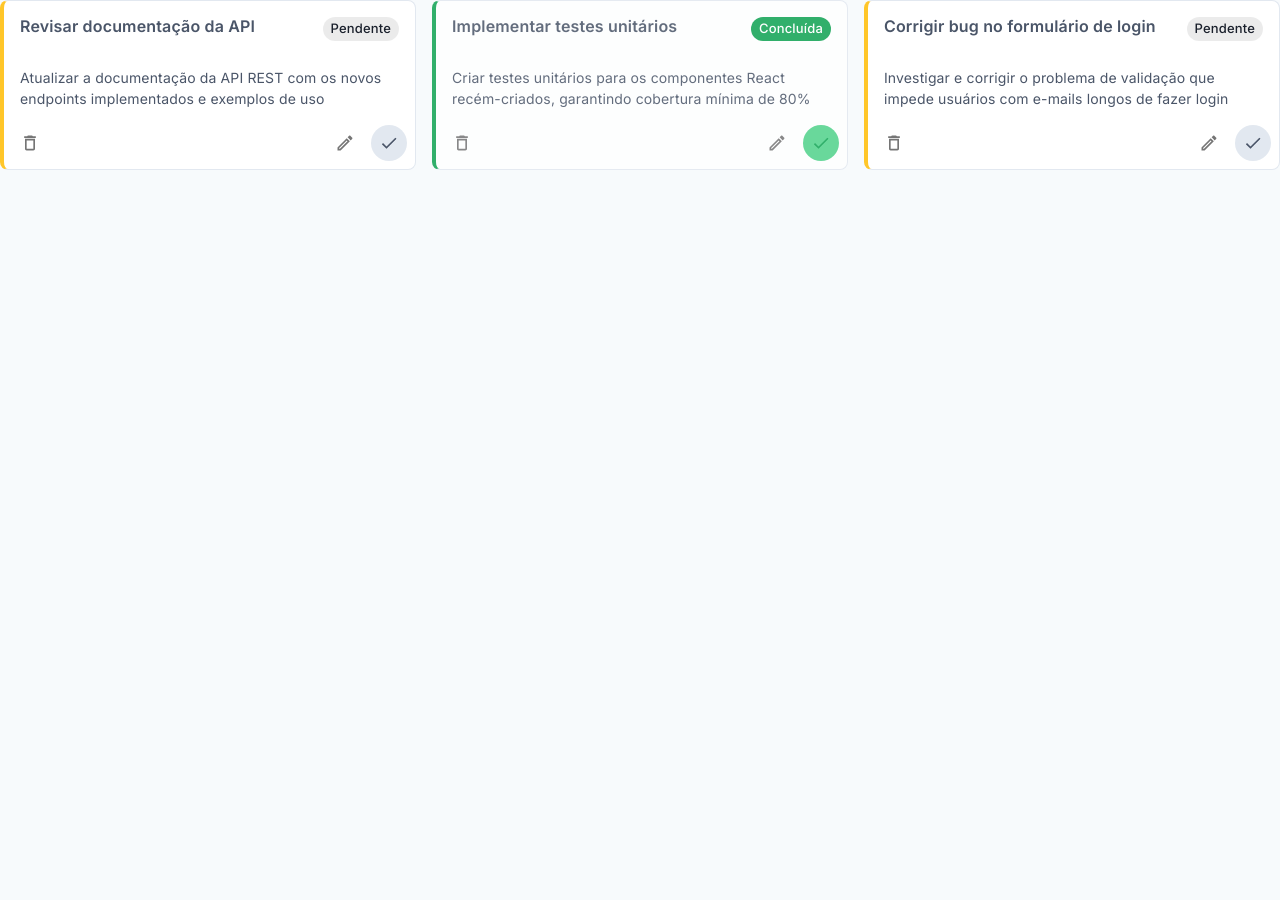
TaskList - Integration Tests › Edge Cases › should display error message when complete task fails
The width and height of the screenshot is (1280, 900).
Expected: the text "Revisar documentação da API" is shown, [20,16,255,36]
Click the button named "marcar como concluída" below "Revisar documentação da API": [389, 143] box [371,125,407,161]
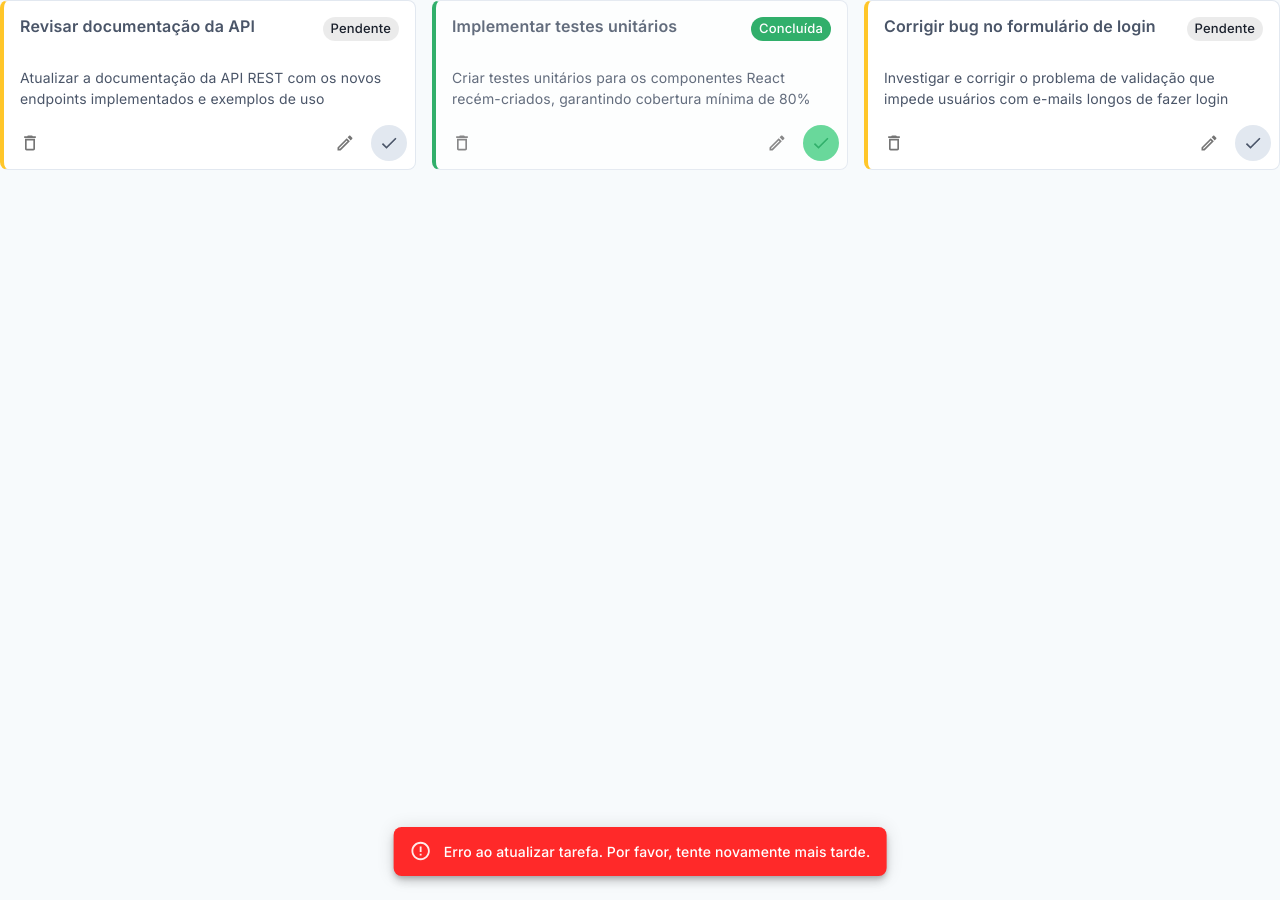
Expected: the text "Erro ao atualizar tarefa. Por favor, tente novamente mais tarde." is shown, [444,843,870,860]
